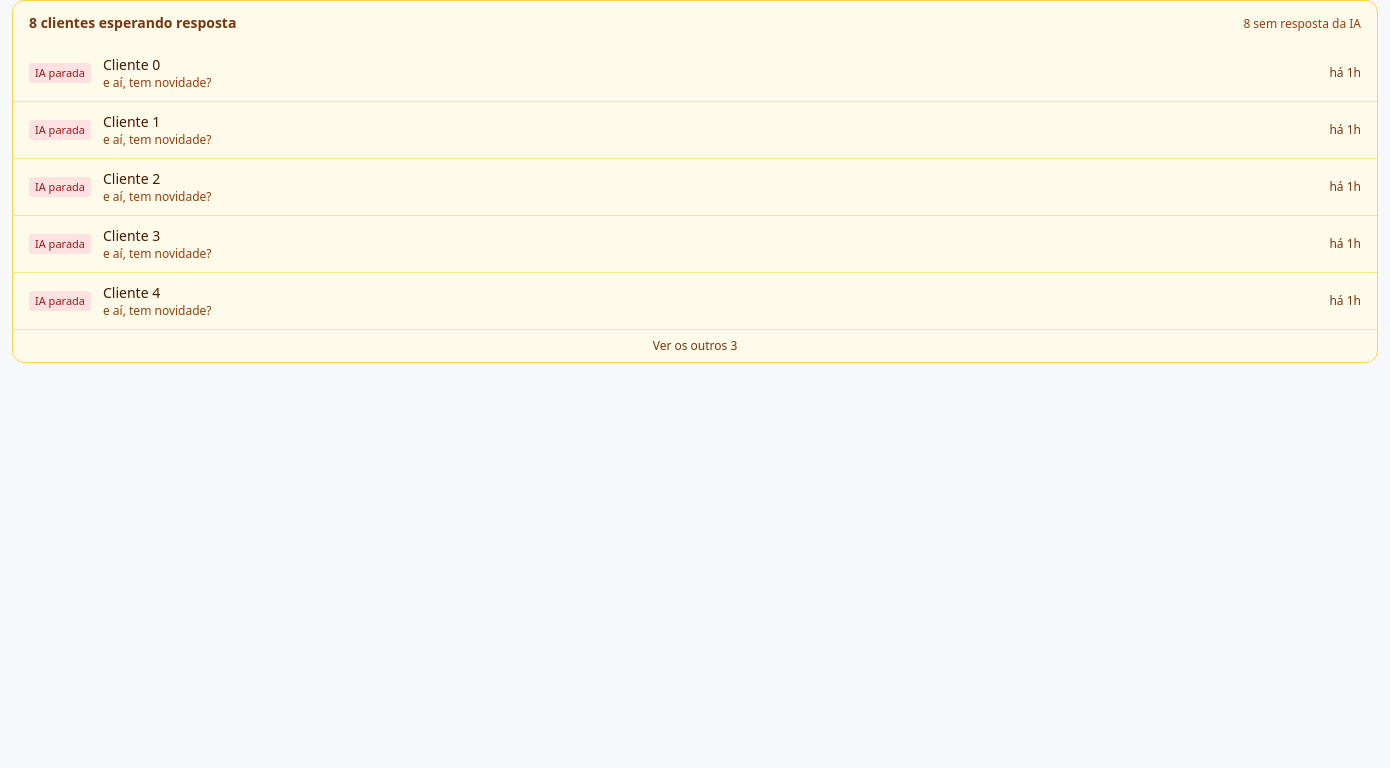
Test: faixa de clientes esperando › acima de cinco, esconde o resto atrás de um botão
Expected: the text "Cliente 0" is shown, [103,55,160,74]
Expected: the text "Cliente 5" is not shown
Step 1. Click the button "Ver os outros 3" → (695, 346), box [13,329,1377,362]
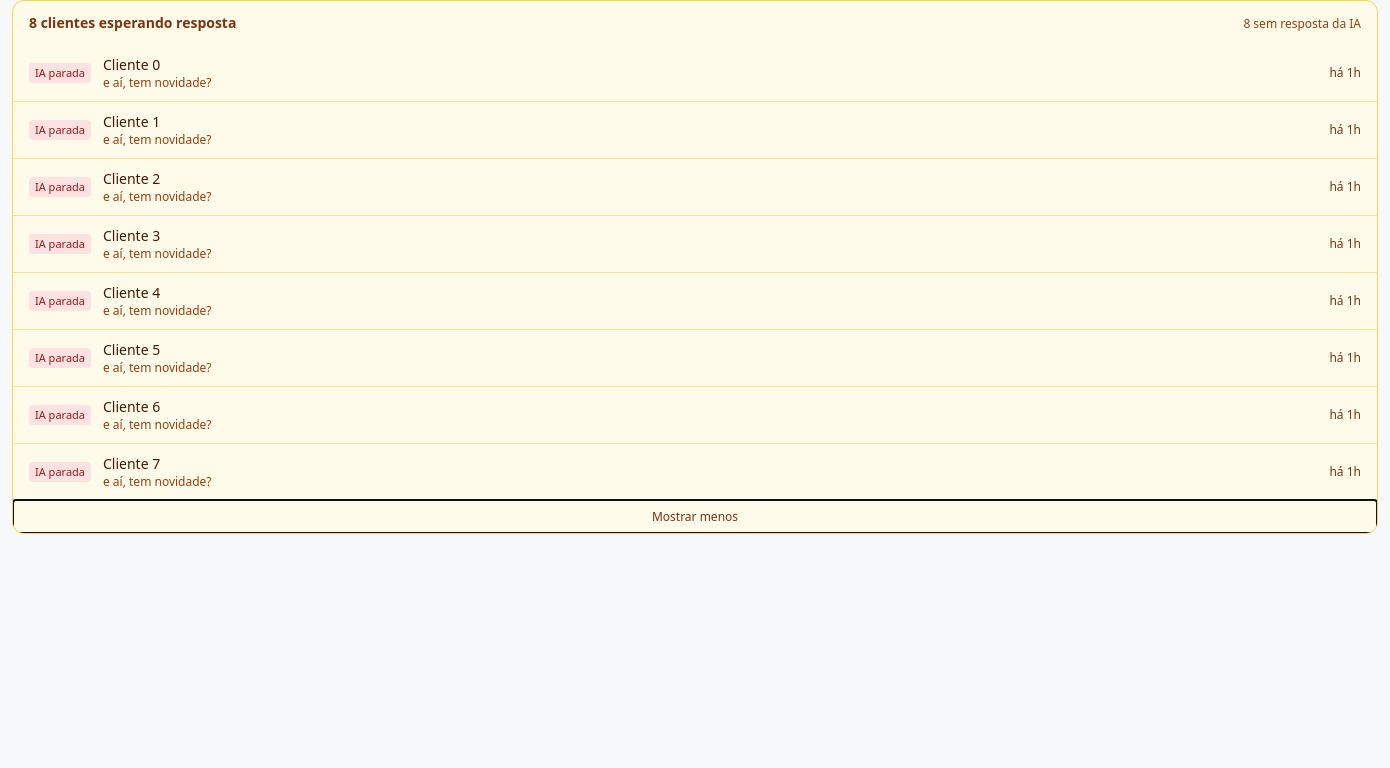
Expected: the text "Cliente 7" is shown, [103,454,160,473]
